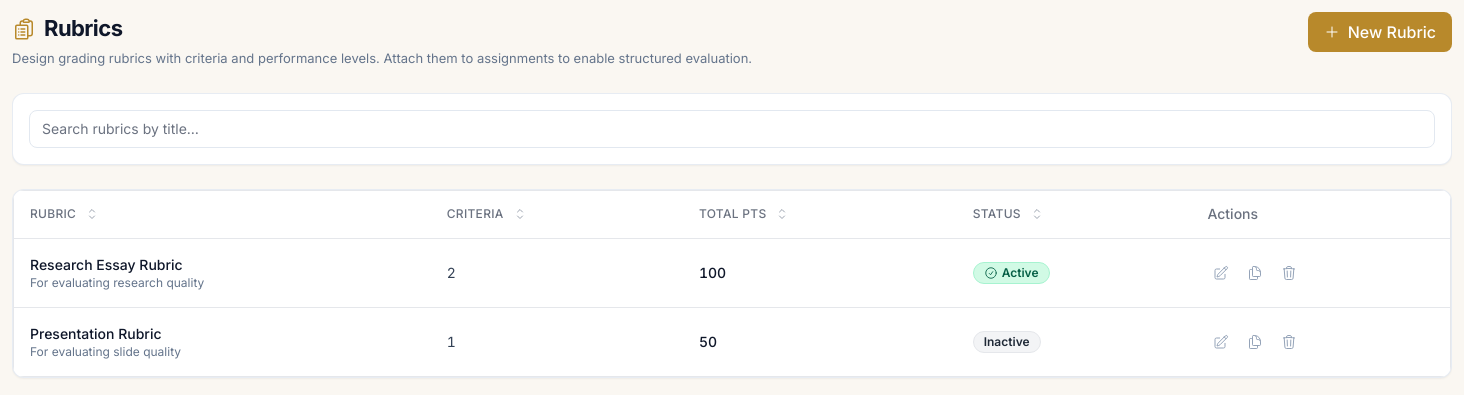
Test: RubricPage › shows a "Clear" button once the user has typed, and clicking it resets the search
Type "x" into the search field with placeholder "Search rubrics by title…" at (732, 128), box left=29, top=110, right=1435, bottom=148
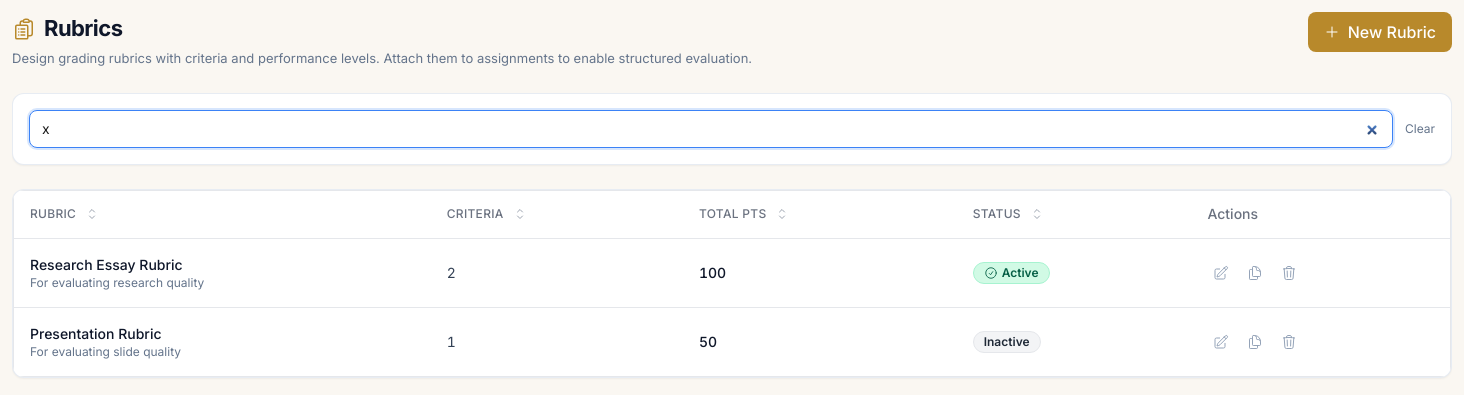
Check: the button "Clear" is shown
Click the button "Clear" at (1420, 128), box left=1405, top=120, right=1435, bottom=136
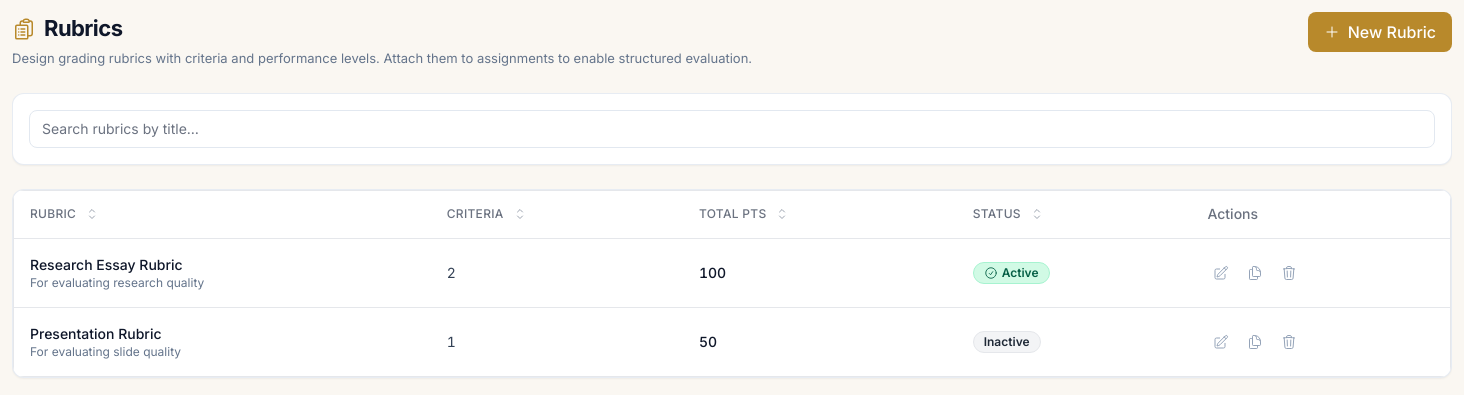
Check: the search field with placeholder "Search rubrics by title…" is empty, box left=29, top=110, right=1435, bottom=148
Check: the button "Clear" is gone
